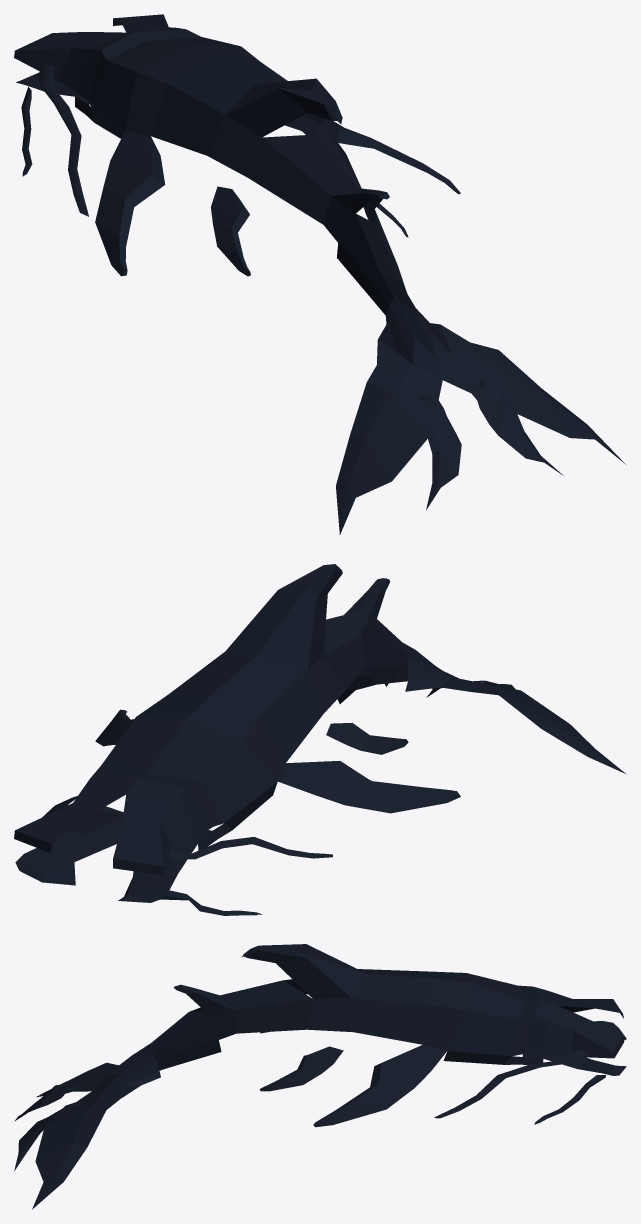
Rendered from SM_NewWhale_01.fbx.
3 renders of one model, top to bottom at view 1: azimuth 30°, elevation 25°; view 2: azimuth 150°, elevation 25°; view 3: azimuth 270°, elevation 25°, orthographic. The views are drawn at different scales.
Visible parts, largest first — view 1: SM_NewWhale_001; view 2: SM_NewWhale_001; view 3: SM_NewWhale_001.
Part boxes in pixels (x1=…): SM_NewWhale_001: x1=14, y1=14, x2=625, y2=534; SM_NewWhale_001: x1=14, y1=564, x2=626, y2=915; SM_NewWhale_001: x1=14, y1=944, x2=626, y2=1209.
Bounding box in the file's own units: 697 × 559 × 1476.
